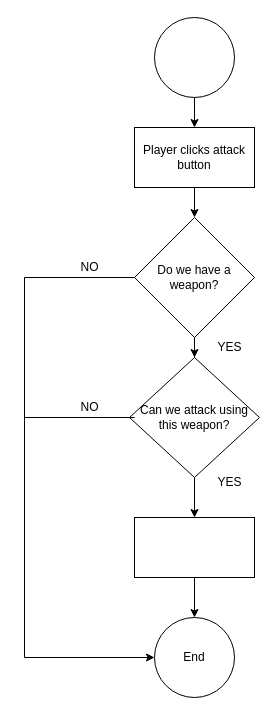
This 277x715 diagram has some shape labels left out. Each missing label, with the centre of its shape:
"Access currentWeapon and call PerformAttack" belongs at point (194, 547).
"Start" belongs at point (194, 57).
